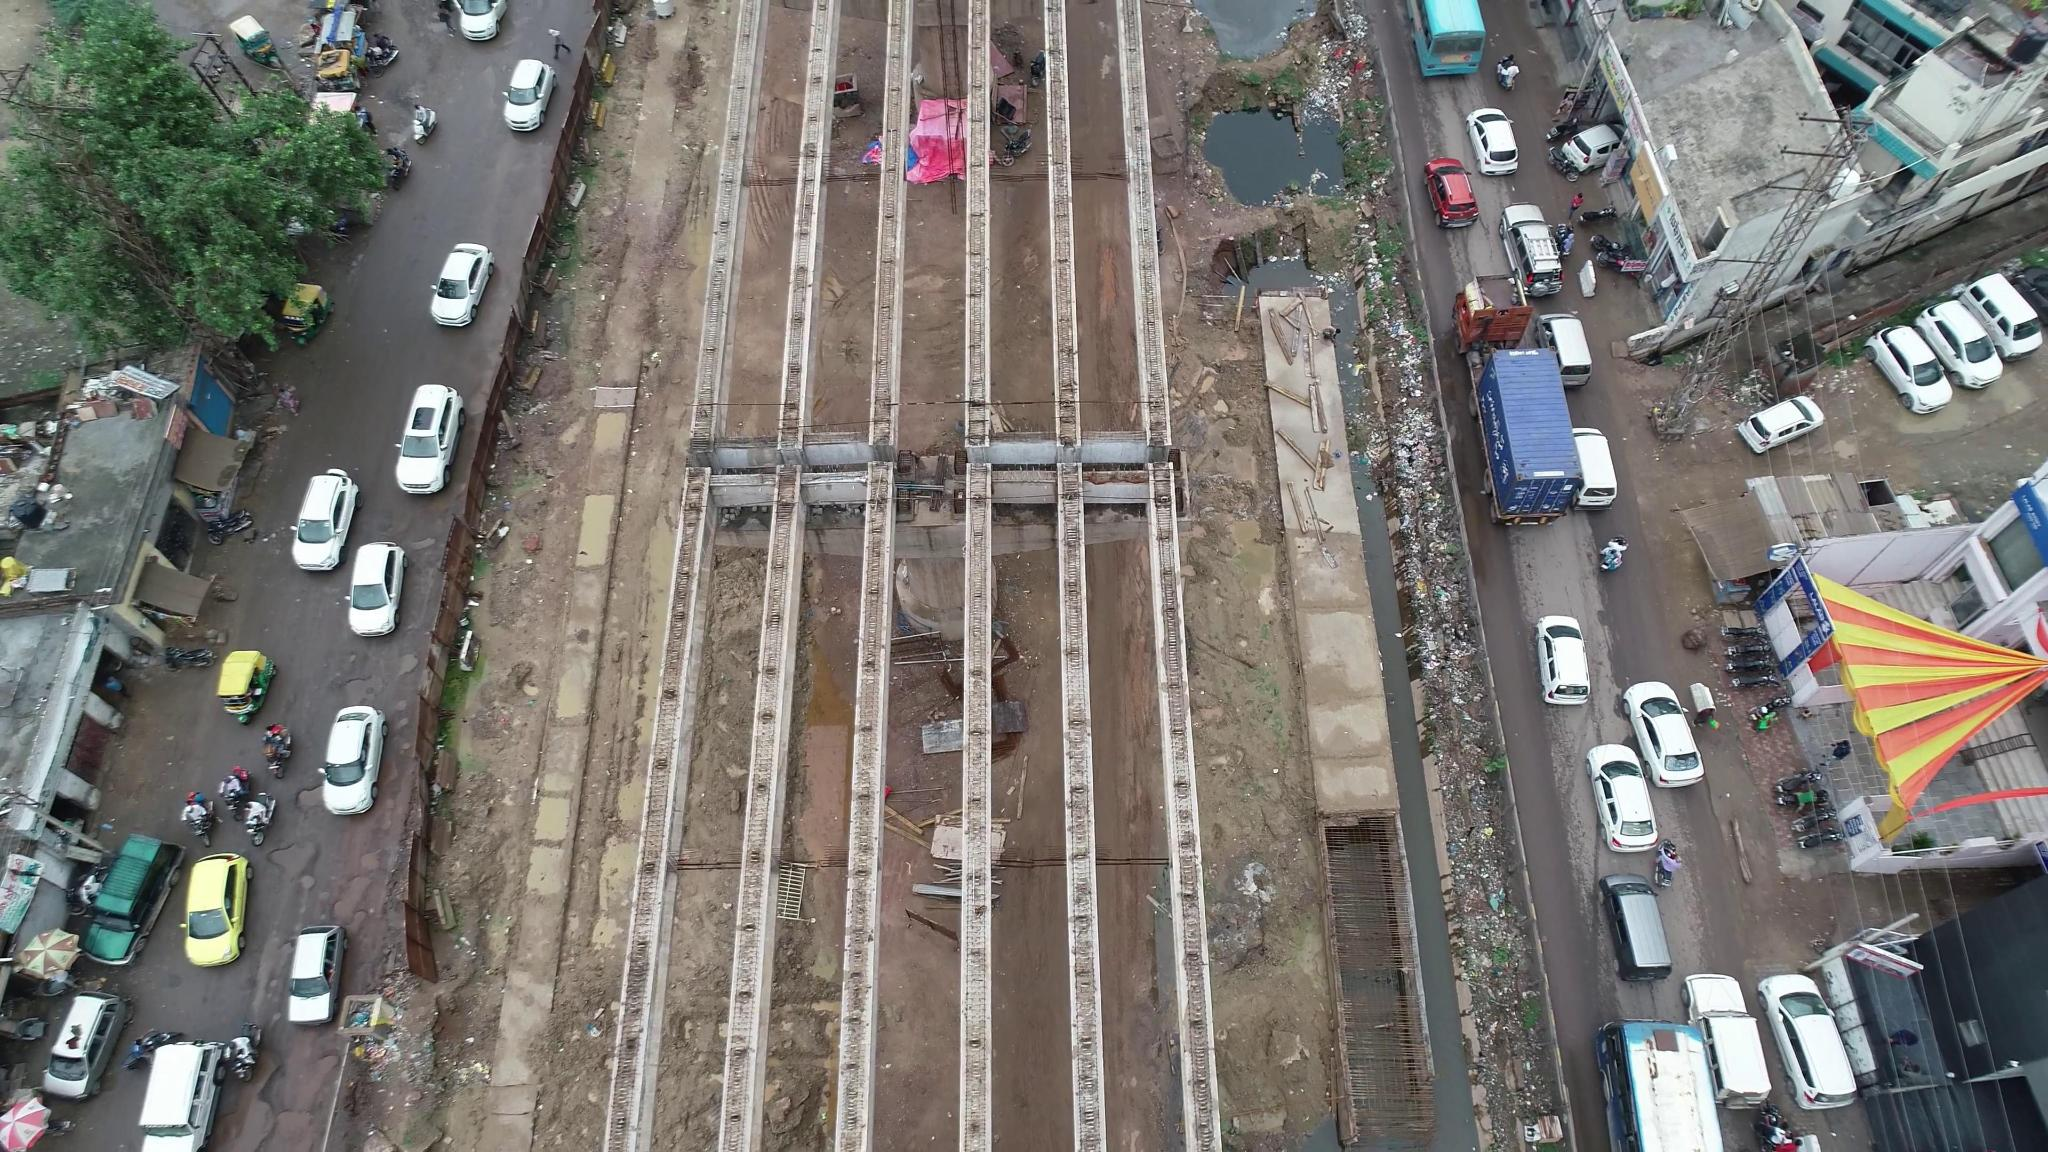Potholes: (250, 828, 361, 890)
